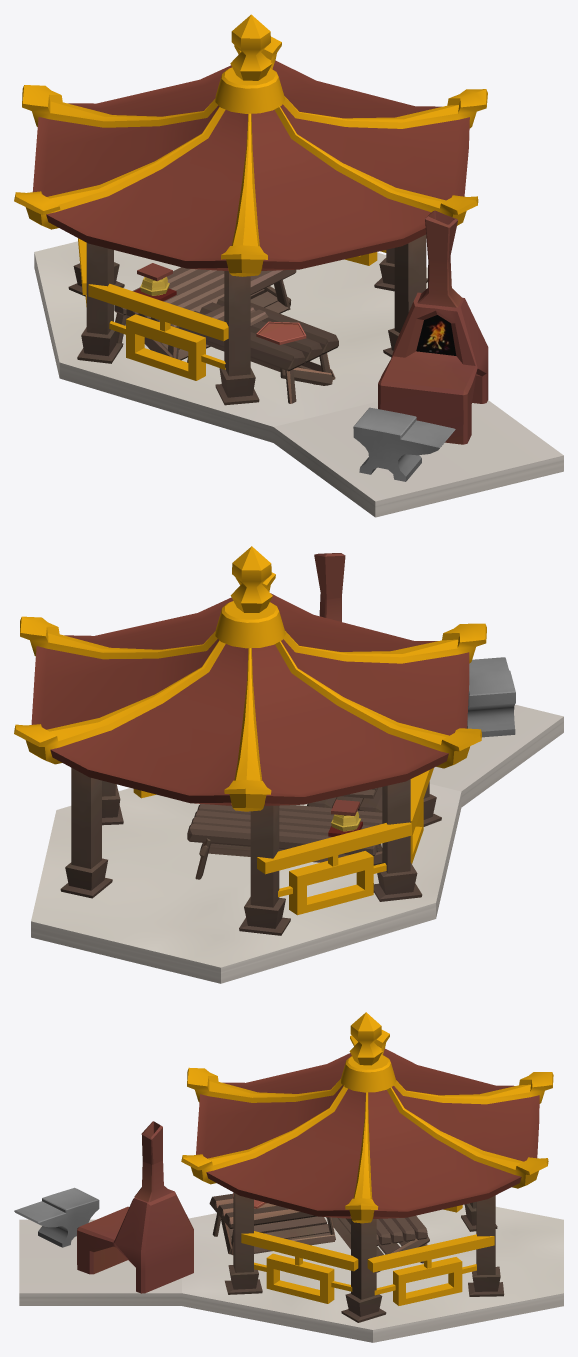
The model's file is royal.fbx.
3 views of the same model, one above another, from view 1: azimuth 30°, elevation 25°; view 2: azimuth 150°, elevation 25°; view 3: azimuth 270°, elevation 25° (orthographic). The views are drawn at different scales.
Parts seen in each view (by area): view 1: polySurface105; view 2: polySurface105; view 3: polySurface105.
Part boxes in pixels (<box>): polySurface105: <box>14,14,563,517</box>; polySurface105: <box>14,546,563,983</box>; polySurface105: <box>14,1012,563,1342</box>.
Bounding box in the file's own units: 6.26 × 4.13 × 8.01.
